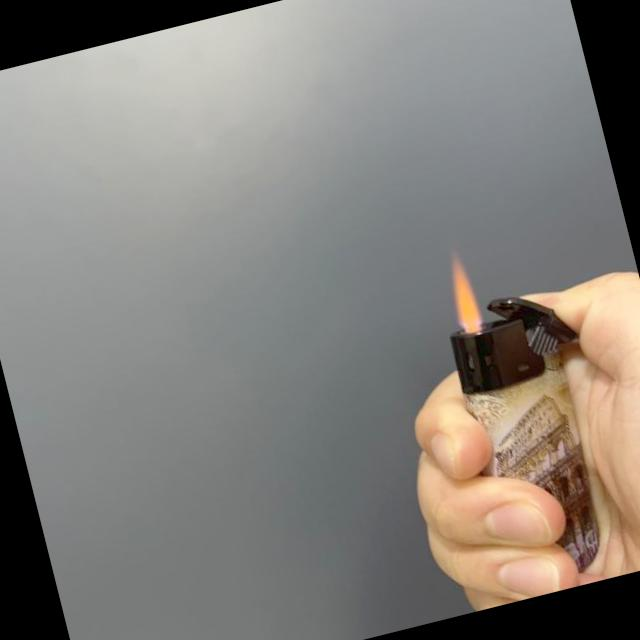fire: (439, 250, 488, 334)
